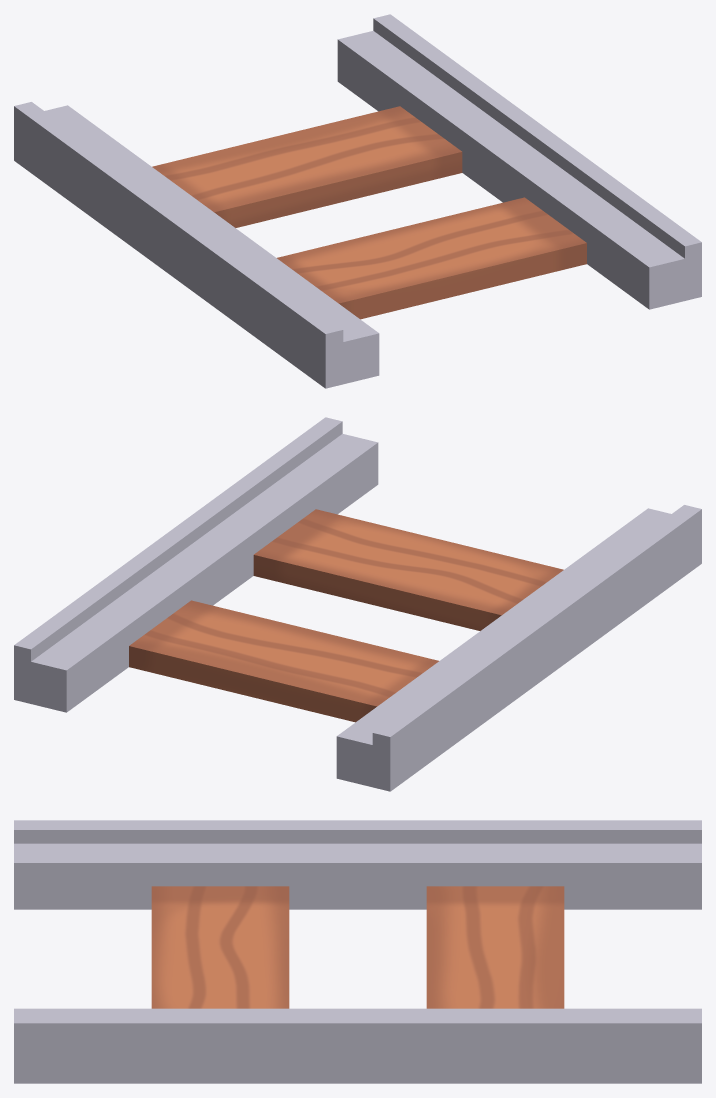
The model's file is Rails_MiddlePiece.fbx.
The picture shows the model from 3 angles, top to bottom: view 1: azimuth 30°, elevation 25°; view 2: azimuth 150°, elevation 25°; view 3: azimuth 270°, elevation 25°; orthographic projection. The views are drawn at different scales.
Parts seen in each view (by area): view 1: Cube; view 2: Cube; view 3: Cube.
Boxes of the visible parts, box(x1,y1,x2,y2) form: Cube: box(14, 14, 701, 388); Cube: box(14, 417, 701, 791); Cube: box(14, 820, 701, 1083).
Bounding box in the file's own units: 175 × 24.26 × 251.
